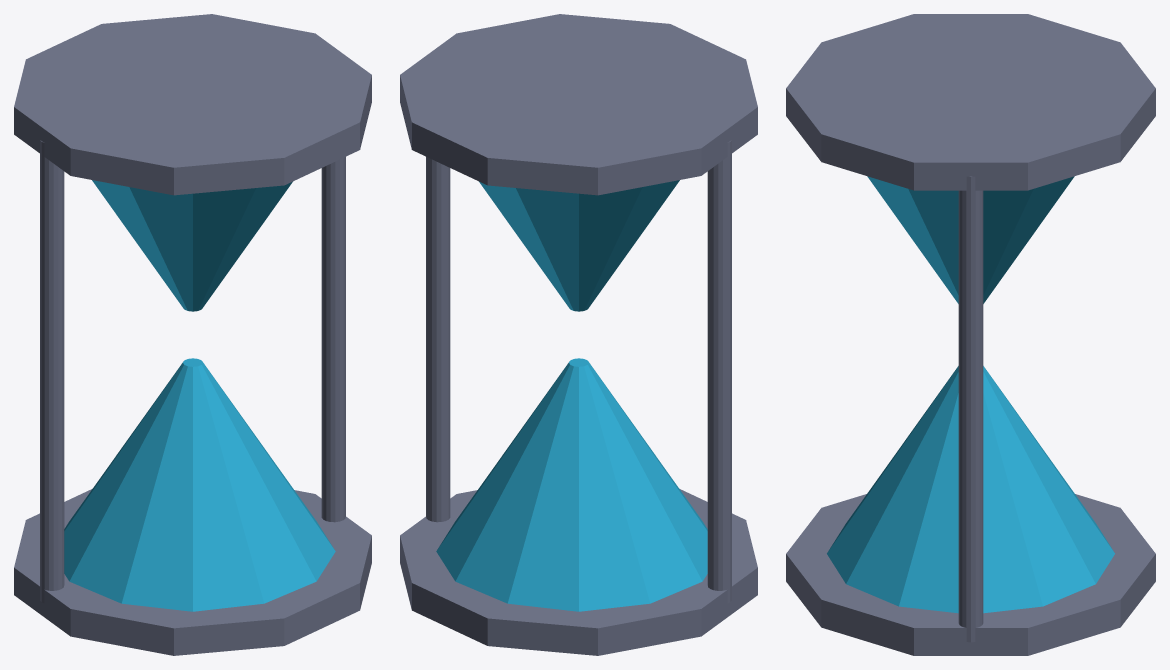
Rendered from stillwater-hourglass.glb.
The picture shows the model from 3 angles, left to right: view 1: azimuth 30°, elevation 25°; view 2: azimuth 150°, elevation 25°; view 3: azimuth 270°, elevation 25°; orthographic projection.
Visible parts, largest first — view 1: hourglass-cap-top, hourglass-bulb-lower, hourglass-cap-bottom, hourglass-bulb-upper, hourglass-post-1, hourglass-post-0; view 2: hourglass-cap-top, hourglass-bulb-lower, hourglass-cap-bottom, hourglass-bulb-upper, hourglass-post-1, hourglass-post-0; view 3: hourglass-cap-top, hourglass-bulb-lower, hourglass-cap-bottom, hourglass-post-0, hourglass-bulb-upper.
Boxes of the visible parts, left/top/right/bottom form: hourglass-cap-top: left=14, top=14, right=371, bottom=195; hourglass-bulb-lower: left=64, top=358, right=335, bottom=611; hourglass-cap-bottom: left=14, top=489, right=371, bottom=655; hourglass-bulb-upper: left=92, top=180, right=292, bottom=311; hourglass-post-1: left=40, top=140, right=64, bottom=602; hourglass-post-0: left=321, top=157, right=345, bottom=522; hourglass-cap-top: left=400, top=14, right=757, bottom=195; hourglass-bulb-lower: left=436, top=358, right=707, bottom=611; hourglass-cap-bottom: left=400, top=489, right=757, bottom=655; hourglass-bulb-upper: left=479, top=180, right=679, bottom=311; hourglass-post-1: left=707, top=140, right=731, bottom=602; hourglass-post-0: left=426, top=157, right=450, bottom=522; hourglass-cap-top: left=786, top=14, right=1155, bottom=190; hourglass-bulb-lower: left=827, top=366, right=1114, bottom=613; hourglass-cap-bottom: left=786, top=494, right=1155, bottom=655; hourglass-post-0: left=958, top=176, right=983, bottom=642; hourglass-bulb-upper: left=867, top=176, right=1074, bottom=303.
Bounding box in the file's own units: 0.344 × 0.53 × 0.36.
